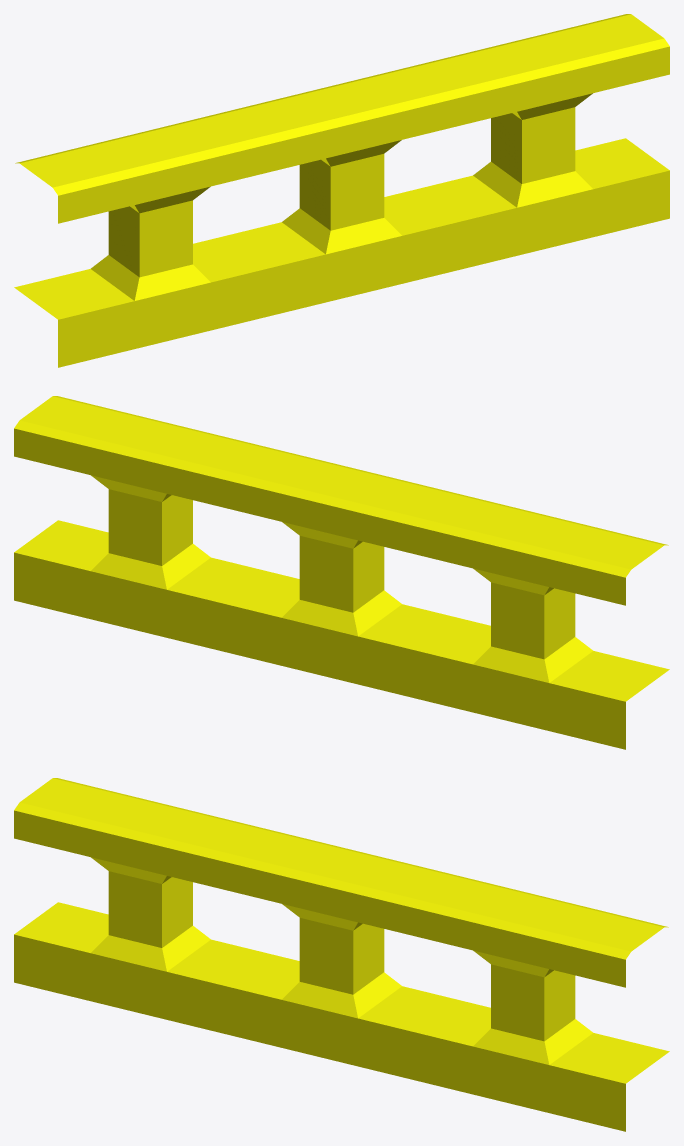
Rendered from kaykit-barrier.glb.
3 views of the same model, one above another, from view 1: azimuth 30°, elevation 25°; view 2: azimuth 150°, elevation 25°; view 3: azimuth 330°, elevation 25° (orthographic).
Parts seen in each view (by area): view 1: barrier; view 2: barrier; view 3: barrier.
Part boxes in pixels (left/top/right/bottom): barrier: left=14, top=14, right=669, bottom=367; barrier: left=14, top=396, right=669, bottom=749; barrier: left=14, top=778, right=669, bottom=1131.
Bounding box in the file's own units: 4 × 1.1 × 0.5.
